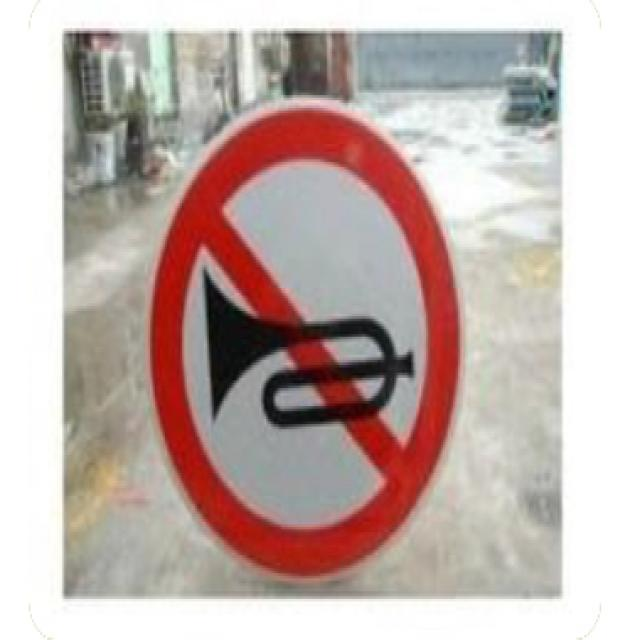horn prohibited: (148, 90, 471, 583)
